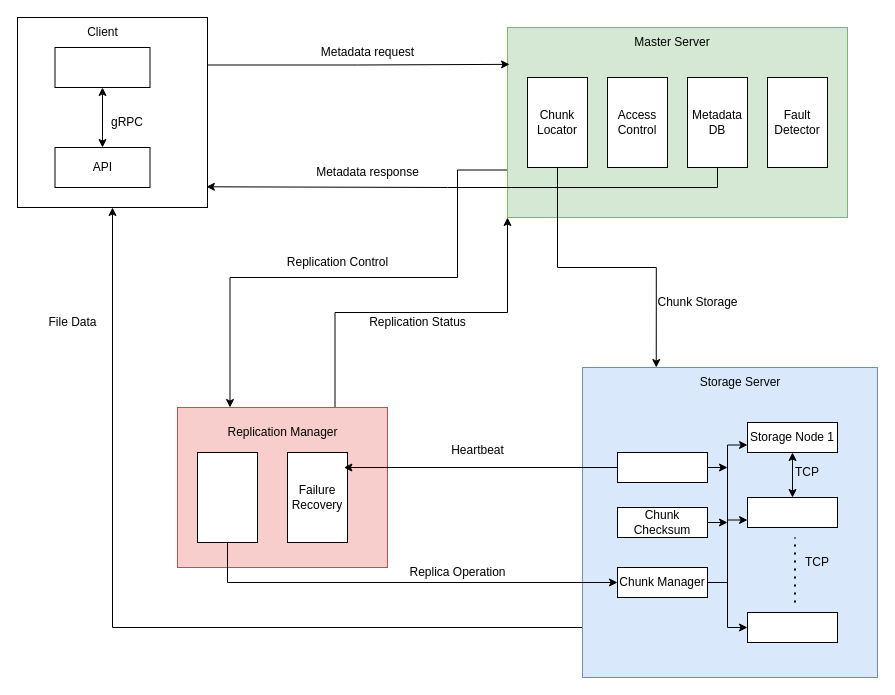
The diagram is 895 pixels wide and 695 high, and some of its shapes have lost their labels. The shapes that lost their labels are listed below. From the top down, each one's centre as x and y in pixels, then its label:
pixel 102 67: Application
pixel 662 467: Health Monitor
pixel 227 497: Replica Selection
pixel 792 512: Storage Node 2
pixel 792 627: Storage Node N
